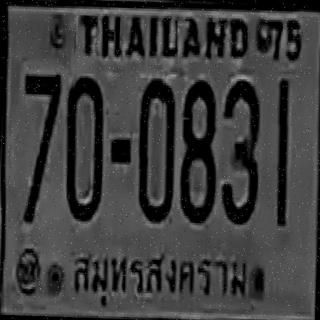N00: (62, 74, 106, 220), (134, 76, 176, 223)
N01: (272, 77, 290, 225)
N03: (220, 79, 261, 224)
N07: (19, 70, 61, 224), (20, 70, 60, 174)
N08: (178, 78, 218, 222)
P59: (64, 242, 252, 318)
